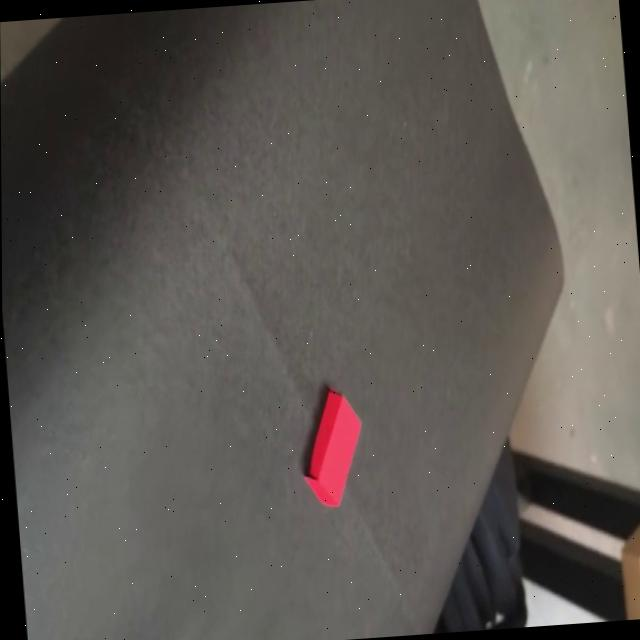red block: (296, 384, 368, 510)
